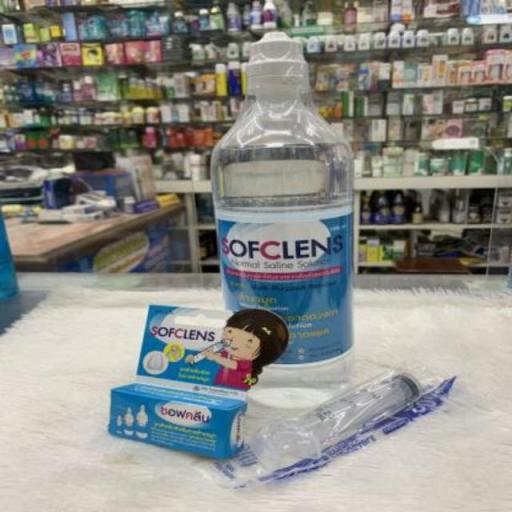Coca: (198, 20, 376, 468)
